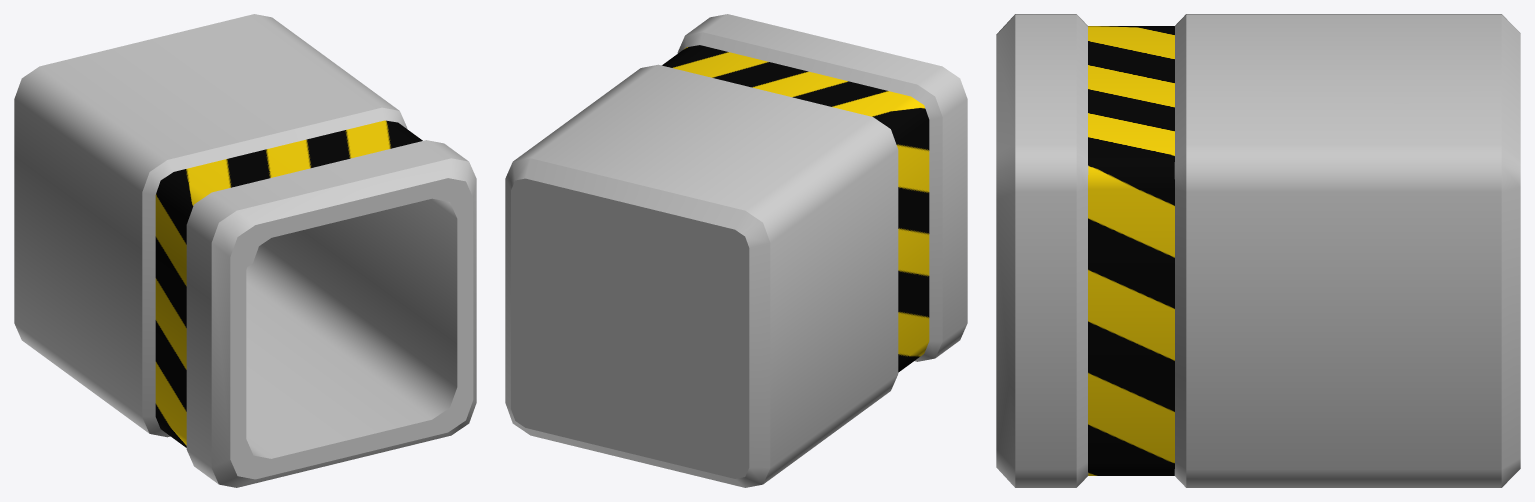
Rendered from obstacle_26_001.fbx.
3 renders of one model, left to right at view 1: azimuth 30°, elevation 25°; view 2: azimuth 150°, elevation 25°; view 3: azimuth 270°, elevation 25°, orthographic. The views are drawn at different scales.
Parts seen in each view (by area): view 1: obstacle_26_001; view 2: obstacle_26_001; view 3: obstacle_26_001.
Boxes of the visible parts, <box> form: obstacle_26_001: <box>14,14,476,487</box>; obstacle_26_001: <box>505,14,967,487</box>; obstacle_26_001: <box>996,14,1520,487</box>.
Bounding box in the file's own units: 311 × 432 × 311.
